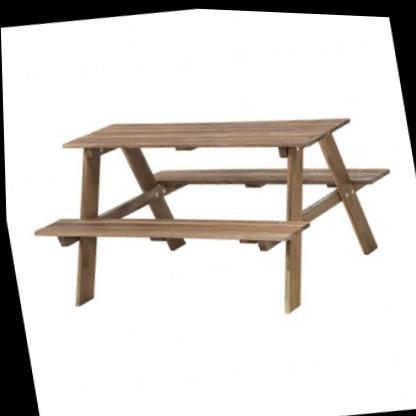Table: (10, 74, 414, 351)
